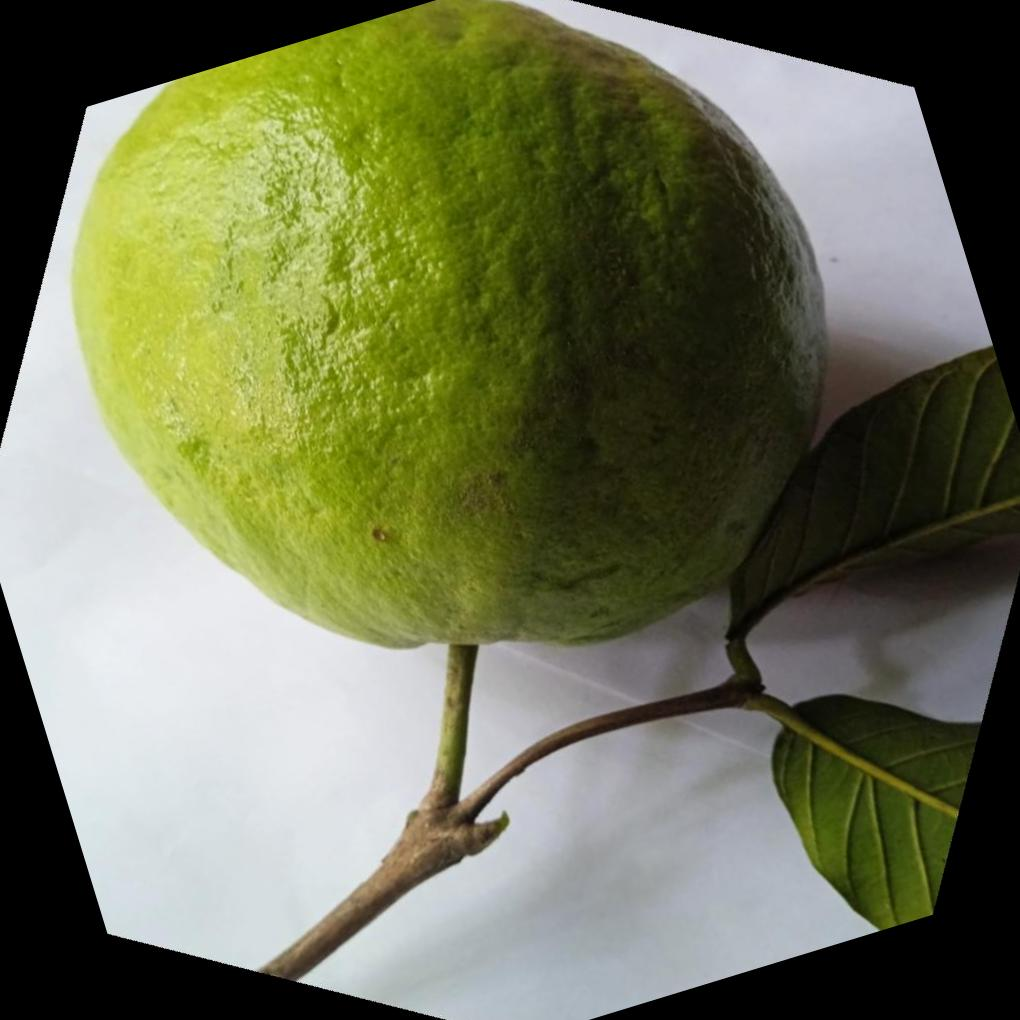FreshGuava: (64, 0, 827, 652)
